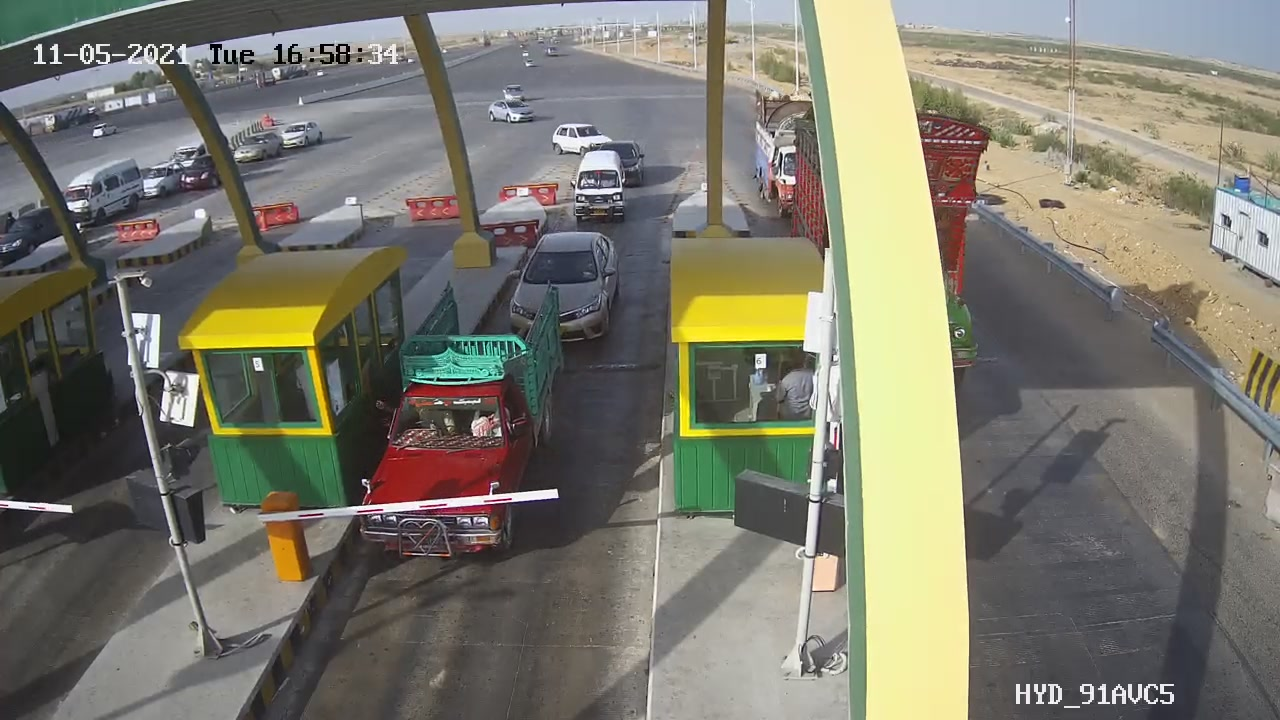F1: (359, 285, 573, 558), (488, 218, 631, 366), (557, 138, 640, 236)
